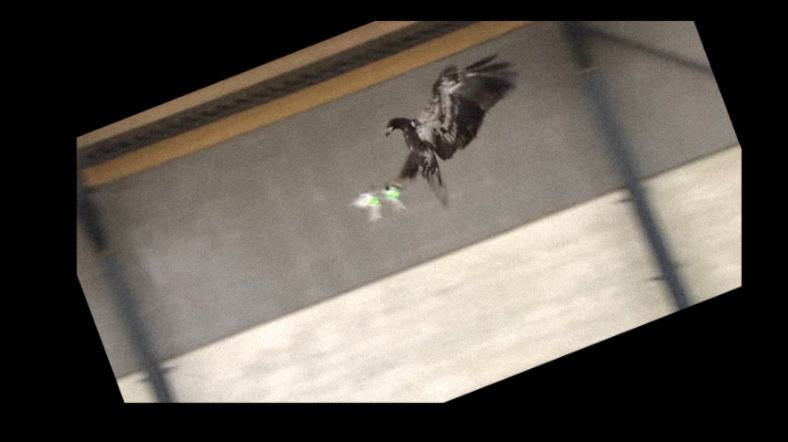Bird: (371, 52, 517, 213)
UAV: (347, 176, 406, 219)
